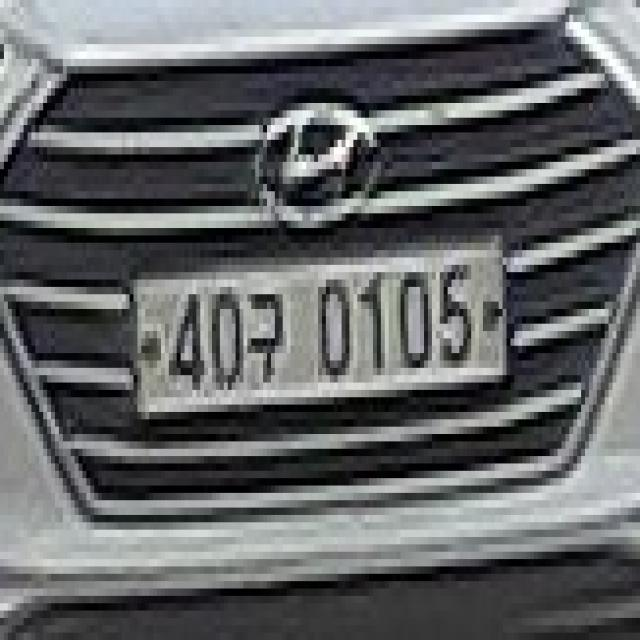0: (393, 265, 432, 375), (310, 280, 350, 382), (208, 287, 240, 397)
1: (353, 265, 389, 382)
4: (165, 294, 204, 390)
5: (436, 257, 471, 368)
gu: (244, 279, 286, 390)
license_plate: (122, 228, 514, 419)
